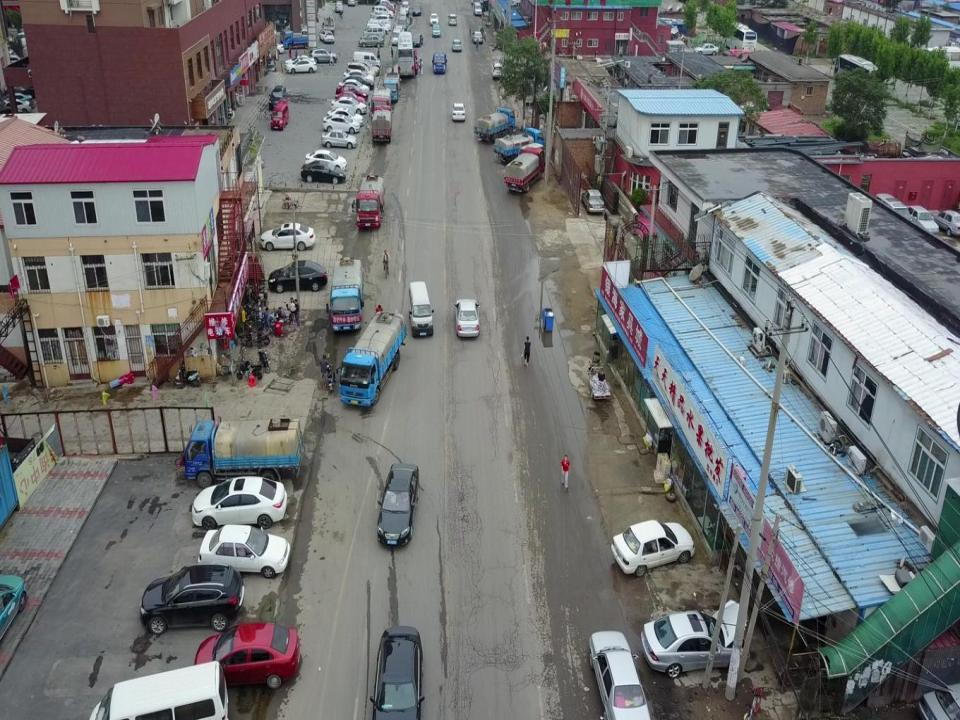bus: (834, 52, 878, 97), (916, 46, 960, 77), (721, 18, 756, 56), (396, 31, 416, 78)
car: (642, 603, 750, 673), (195, 624, 303, 693), (140, 564, 244, 632), (587, 629, 649, 720), (198, 524, 287, 579), (611, 519, 694, 577), (371, 628, 423, 720), (192, 476, 286, 526), (376, 466, 421, 547), (267, 258, 328, 291), (261, 223, 314, 252), (300, 160, 346, 185), (906, 204, 939, 236), (456, 299, 480, 339), (306, 149, 346, 171), (934, 206, 960, 237), (331, 95, 366, 115), (327, 107, 363, 126), (322, 129, 356, 149), (322, 115, 359, 133), (582, 189, 605, 214), (335, 90, 365, 108), (336, 84, 367, 100), (268, 85, 287, 111), (343, 68, 373, 84), (339, 79, 369, 94), (308, 48, 339, 62), (352, 61, 380, 75), (286, 60, 318, 72), (343, 76, 373, 88), (384, 72, 400, 92), (286, 55, 315, 66), (359, 34, 383, 47), (694, 42, 718, 55), (366, 19, 387, 30), (453, 103, 465, 122), (373, 5, 393, 16), (450, 38, 462, 52), (320, 30, 334, 42), (492, 63, 502, 79), (370, 11, 390, 19), (413, 33, 423, 47), (431, 23, 441, 36), (430, 12, 438, 26), (472, 32, 482, 43), (413, 4, 421, 15), (335, 2, 344, 11)
truck: (185, 420, 302, 485), (338, 311, 406, 403), (329, 258, 363, 331), (503, 145, 546, 195), (493, 127, 542, 166), (354, 177, 385, 230), (407, 279, 434, 337), (474, 108, 515, 143), (371, 105, 393, 148), (279, 28, 310, 49), (372, 86, 391, 120), (433, 54, 445, 74)
van: (89, 663, 230, 720), (876, 192, 911, 232), (271, 99, 289, 132), (352, 52, 381, 70), (345, 62, 375, 78), (364, 26, 384, 40), (392, 28, 402, 45), (448, 14, 458, 26), (473, 2, 482, 15), (401, 0, 410, 13), (398, 6, 407, 16)
